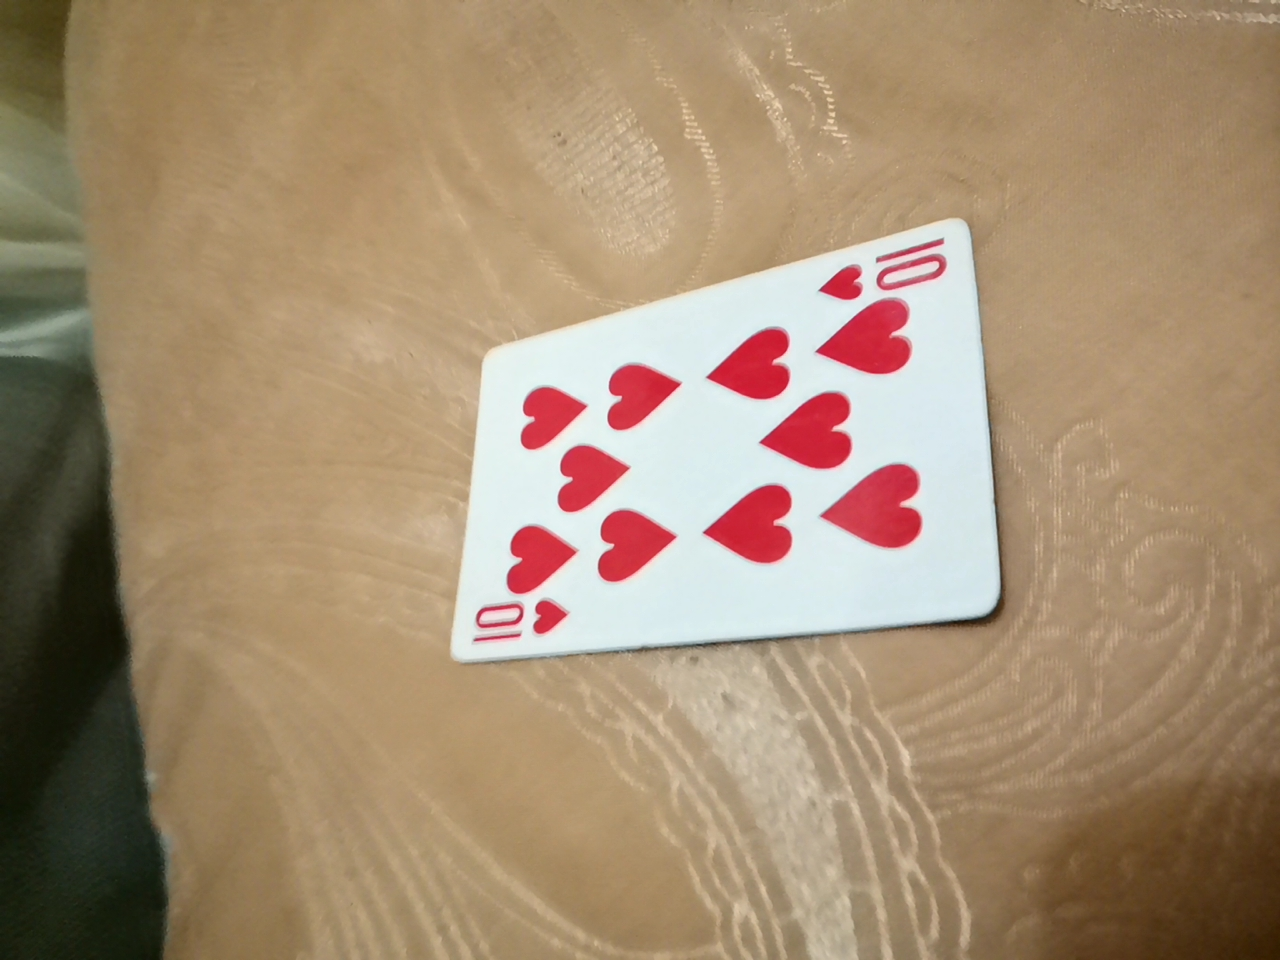hx 10: (402, 234, 994, 641)
